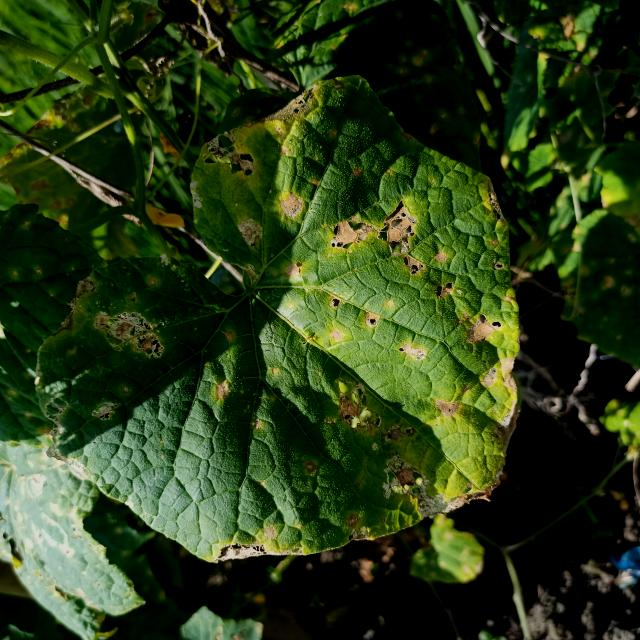disease_cucumber: (69, 85, 512, 550)
